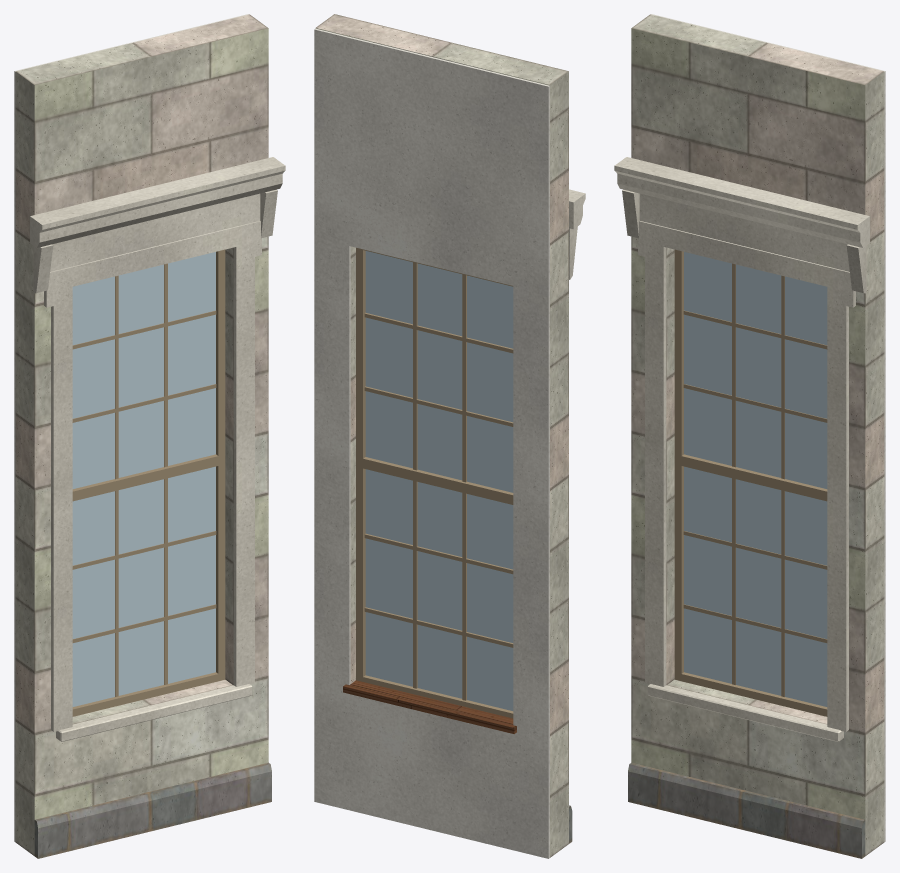
The model's file is f_rect.glb.
3 renders of one model, left to right at view 1: azimuth 30°, elevation 25°; view 2: azimuth 150°, elevation 25°; view 3: azimuth 330°, elevation 25°, orthographic.
Parts seen in each view (by area): view 1: f_rect_stone, f_rect_glass, f_rect_carve, f_rect_bronze, f_rect_granite, f_rect_plaster; view 2: f_rect_plaster, f_rect_glass, f_rect_stone, f_rect_bronze, f_rect_wood, f_rect_carve; view 3: f_rect_stone, f_rect_glass, f_rect_carve, f_rect_bronze, f_rect_granite, f_rect_plaster.
Boxes of the visible parts, x1,y1,x2,y2 form: f_rect_stone: [15, 14, 268, 855]; f_rect_glass: [72, 252, 215, 706]; f_rect_carve: [30, 157, 285, 741]; f_rect_bronze: [72, 249, 225, 716]; f_rect_granite: [34, 762, 271, 858]; f_rect_plaster: [14, 14, 248, 842]; f_rect_plaster: [314, 28, 549, 858]; f_rect_glass: [365, 251, 513, 710]; f_rect_stone: [315, 14, 568, 857]; f_rect_bronze: [356, 247, 513, 718]; f_rect_wood: [343, 680, 516, 733]; f_rect_carve: [569, 189, 585, 279]; f_rect_stone: [631, 14, 884, 855]; f_rect_glass: [684, 252, 827, 706]; f_rect_carve: [614, 157, 869, 741]; f_rect_bronze: [674, 249, 827, 716]; f_rect_granite: [628, 762, 865, 858]; f_rect_plaster: [651, 14, 885, 842].
Size of the model in its own units: 2.08 by 6.3 by 0.52.
Materials: 7 (5 with a texture image).
